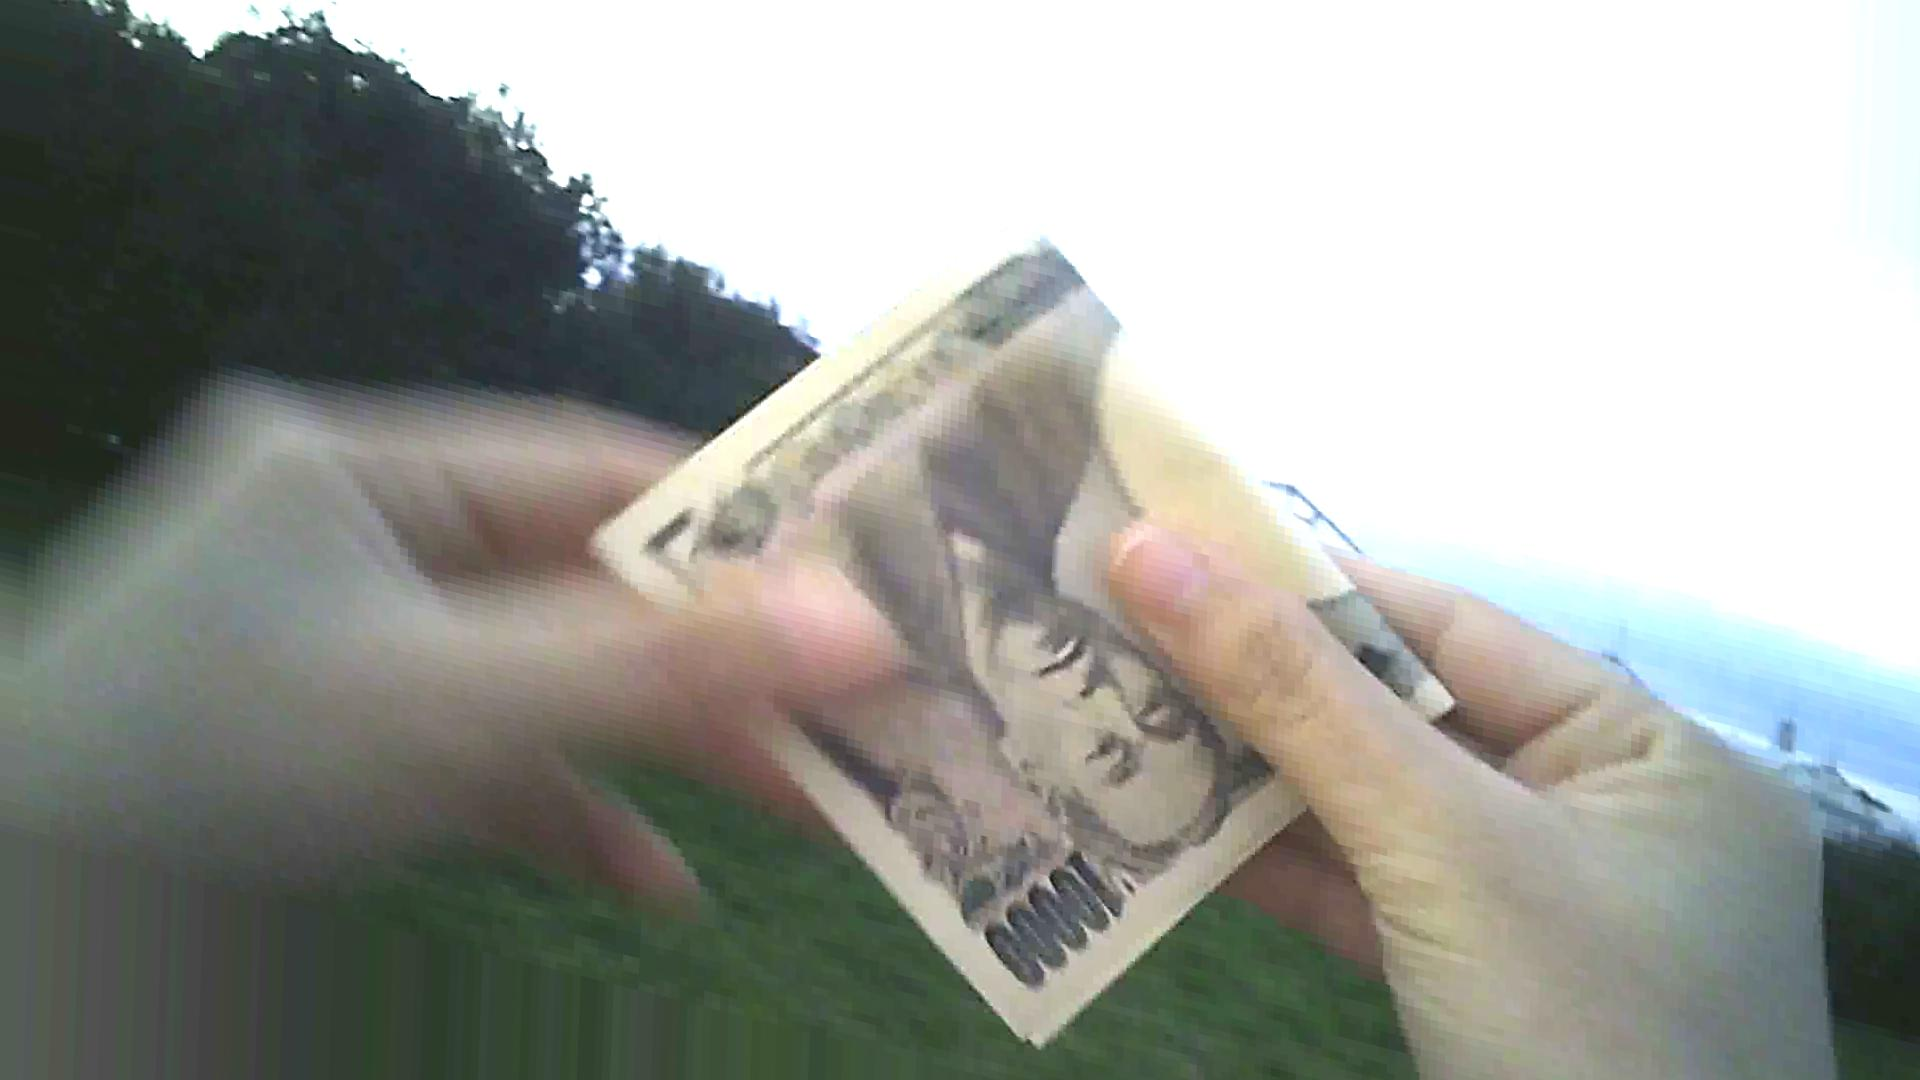10,000 Yen: (634, 214, 1432, 1079)
